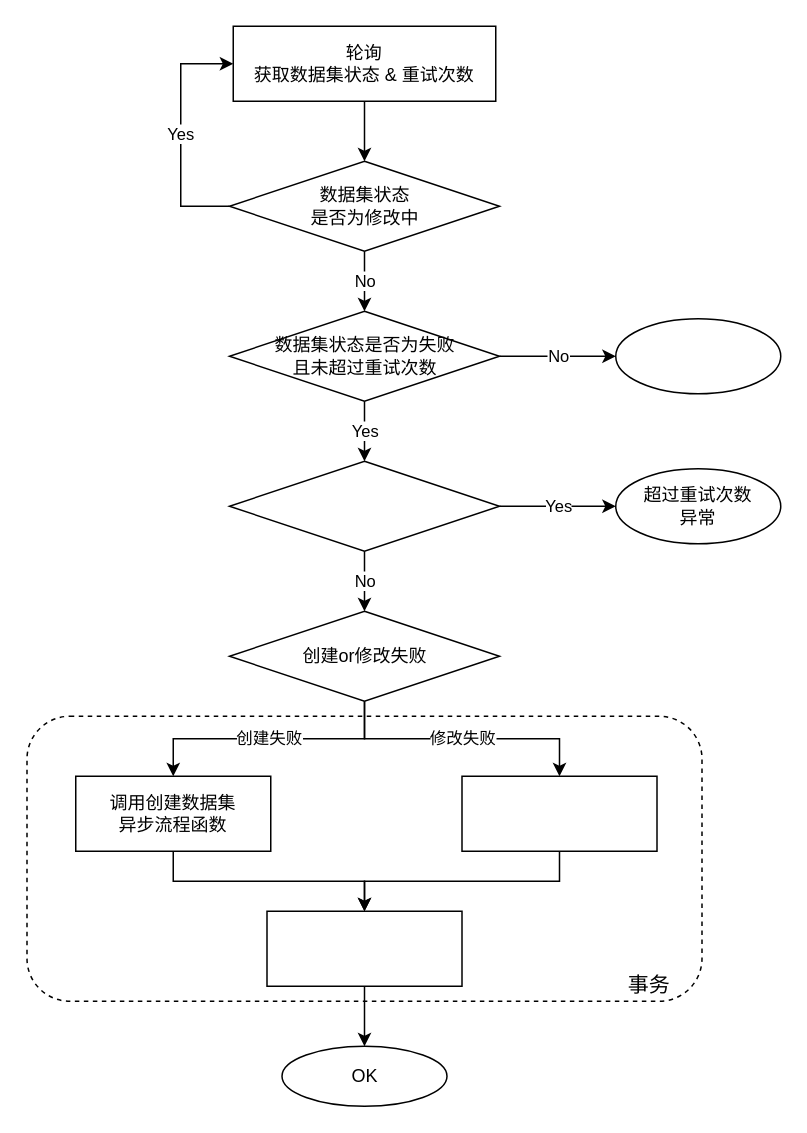
Image size: 807x1133. Some labels were removed from this diagram. Each missing label, with the box of its shape:
修改数据库记录， 数据集重试次数+1: (266, 910, 462, 986)
按钮置灰: (614, 317, 781, 394)
是否超过重试次数: (228, 460, 500, 551)
调用修改数据集 异步流程函数: (460, 775, 657, 851)
